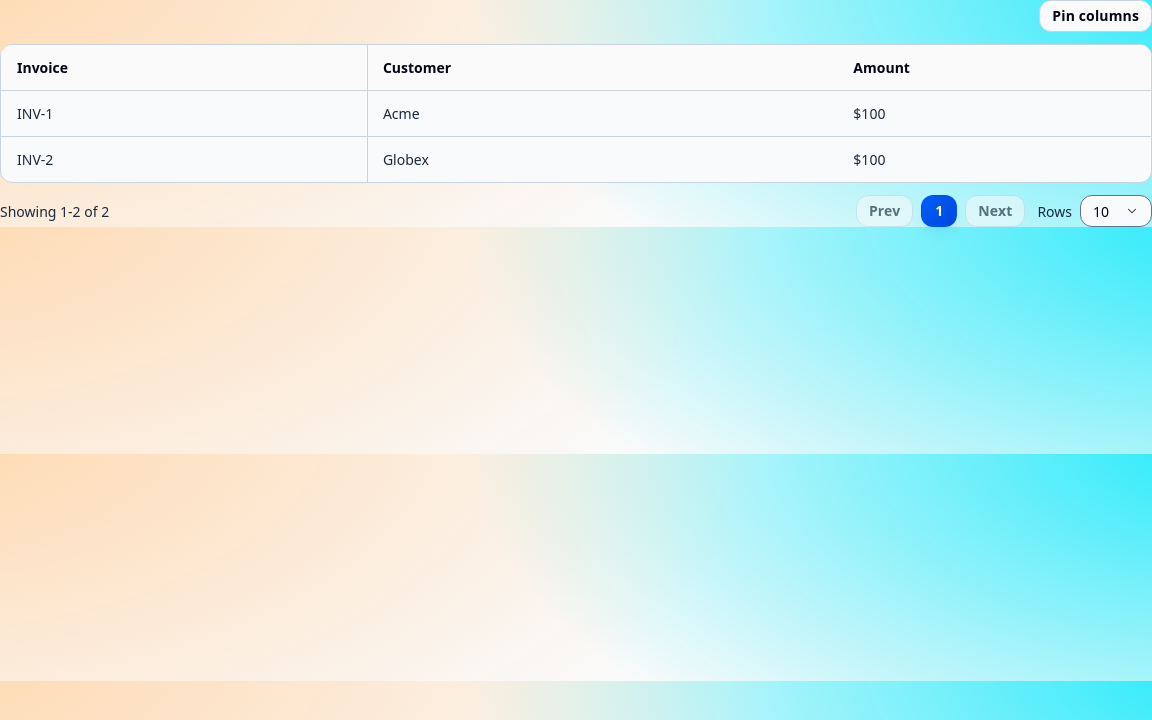
Test: DataTableV2 › supports controlled pinning updates via onPinnedColumnsChange
The width and height of the screenshot is (1152, 720).
Click the button "Pin columns" at (1096, 16), box [1039,0,1151,32]
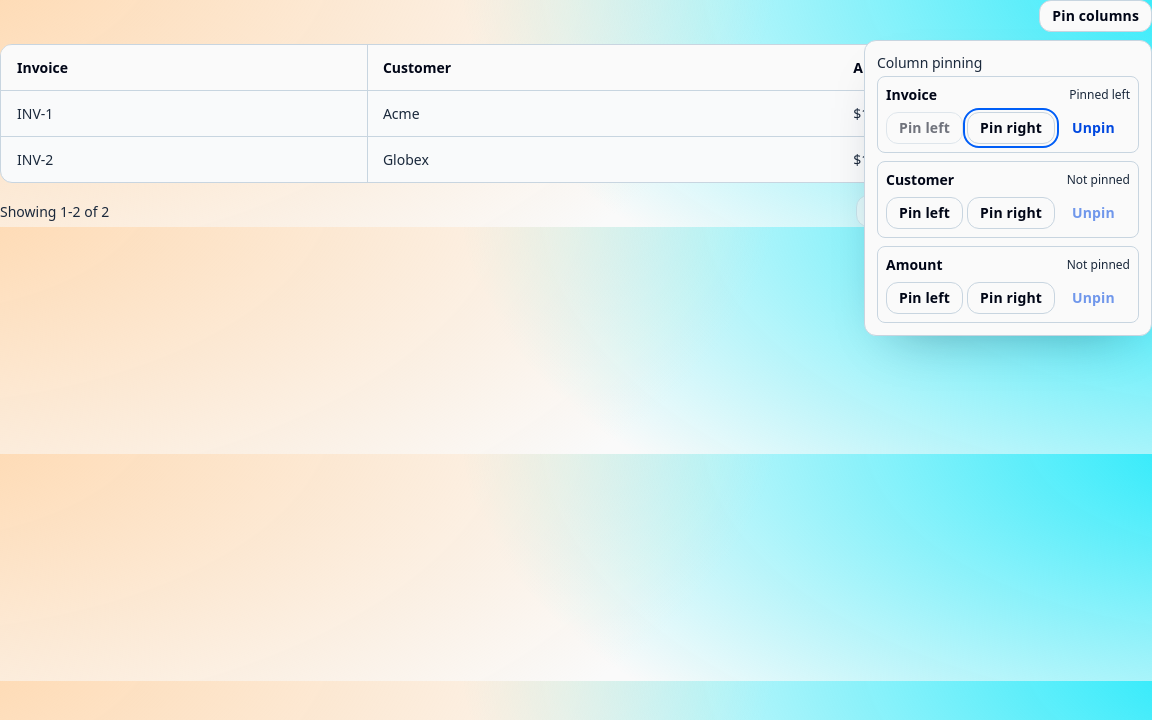
Click the button with aria-label "Pin column Customer left" at (925, 213), box [886,197,963,229]
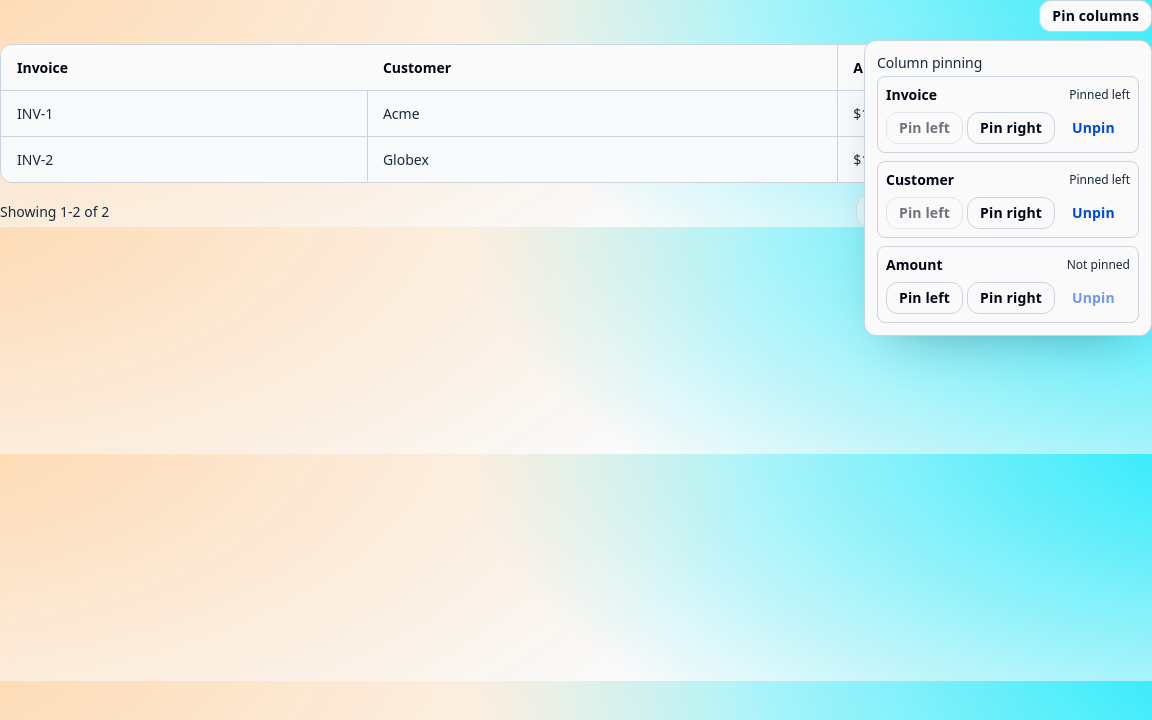
Check: the button with aria-label "Pin column Customer left" is disabled, box [886,197,963,229]
Check: the button with aria-label "Unpin column Customer" is enabled, box [1059,197,1128,229]
